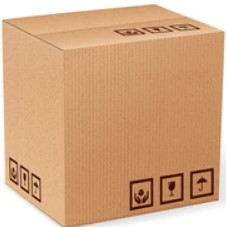stock: (3, 6, 224, 227)
